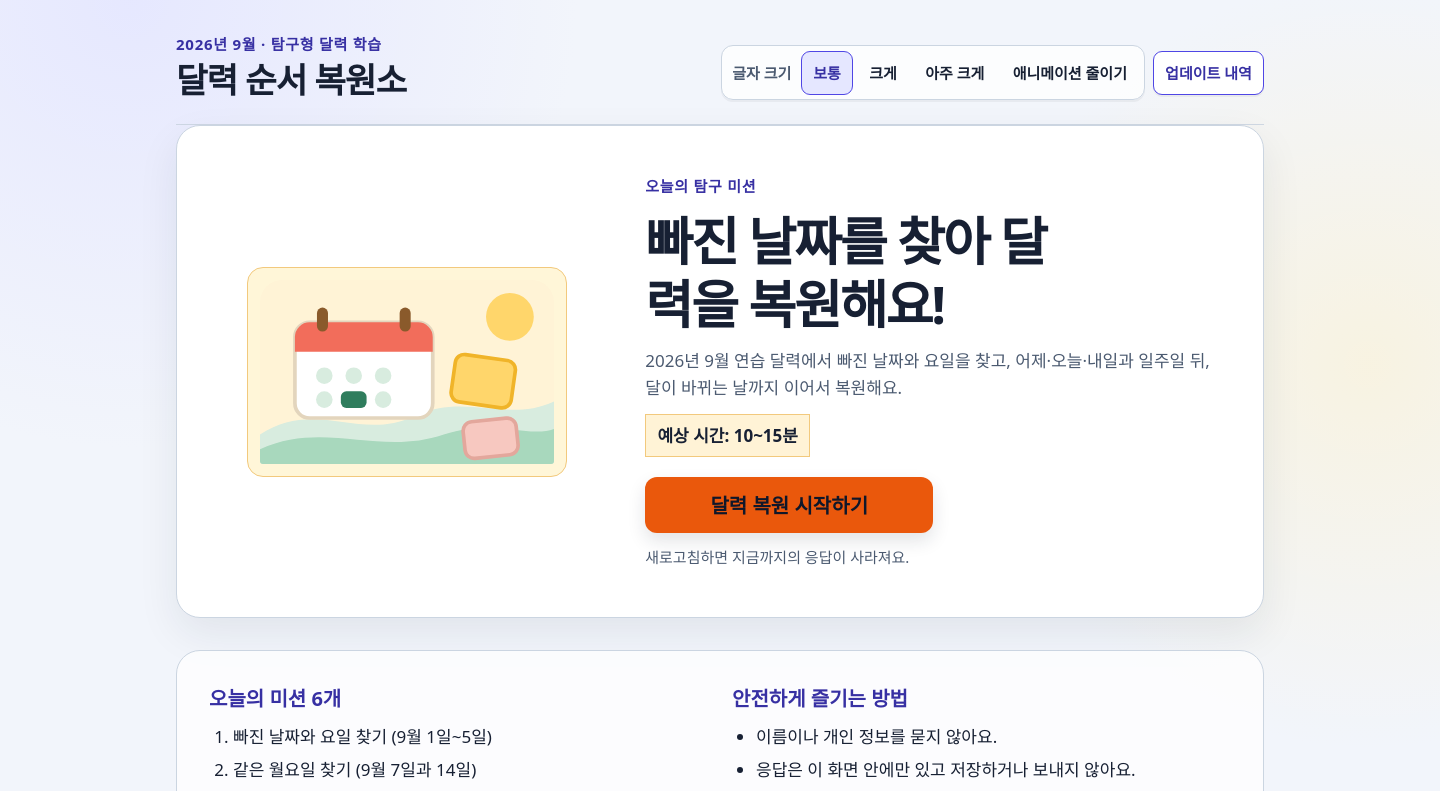
Test case: App 셸 › 시작하면 현재 학습 영역으로 초점이 옮겨지고 요일 띠 단계가 된다
Click the button "달력 복원 시작하기".
click(789, 505)  # box [645,477,933,533]
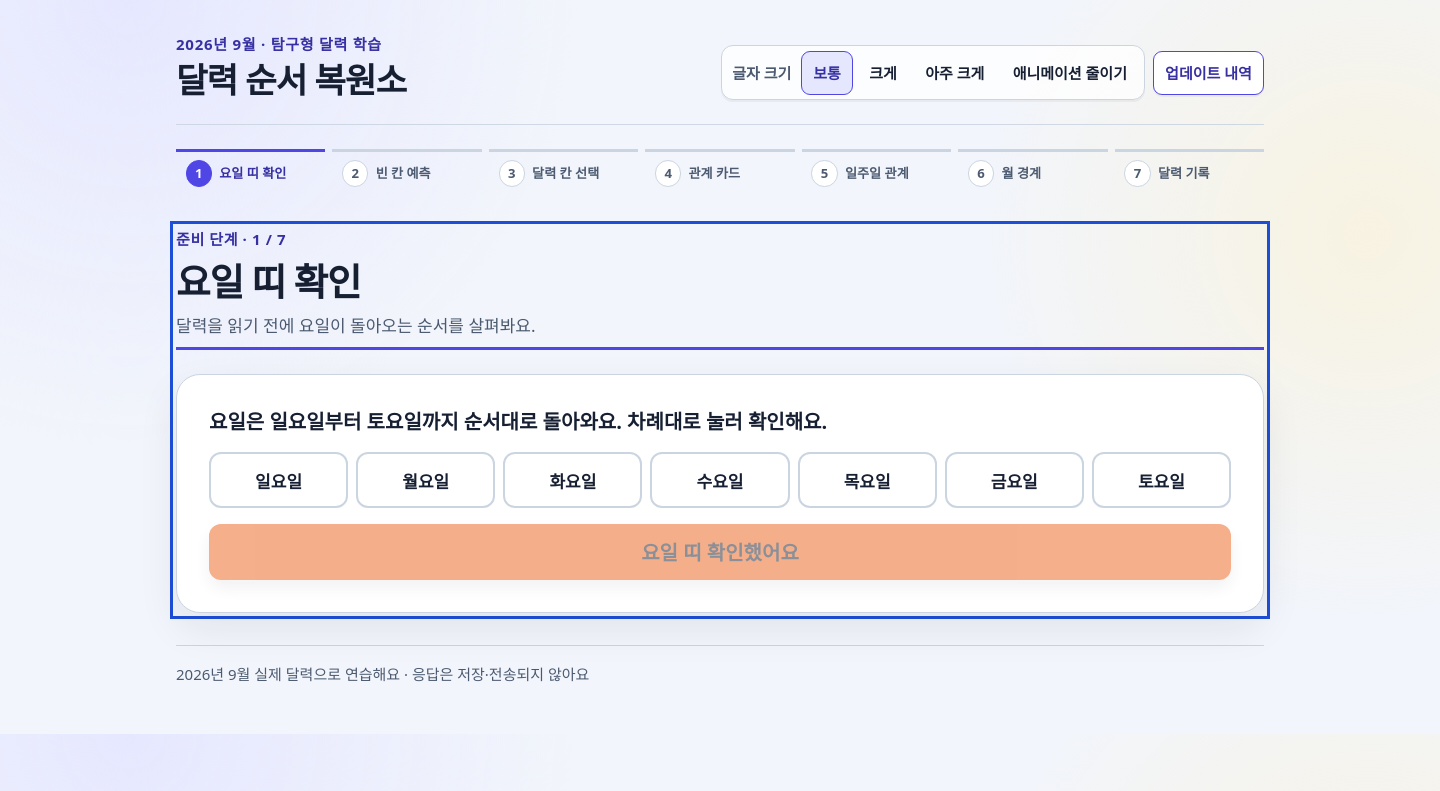
Result: the heading "요일 띠 확인" is shown at [176,256,360,307]
